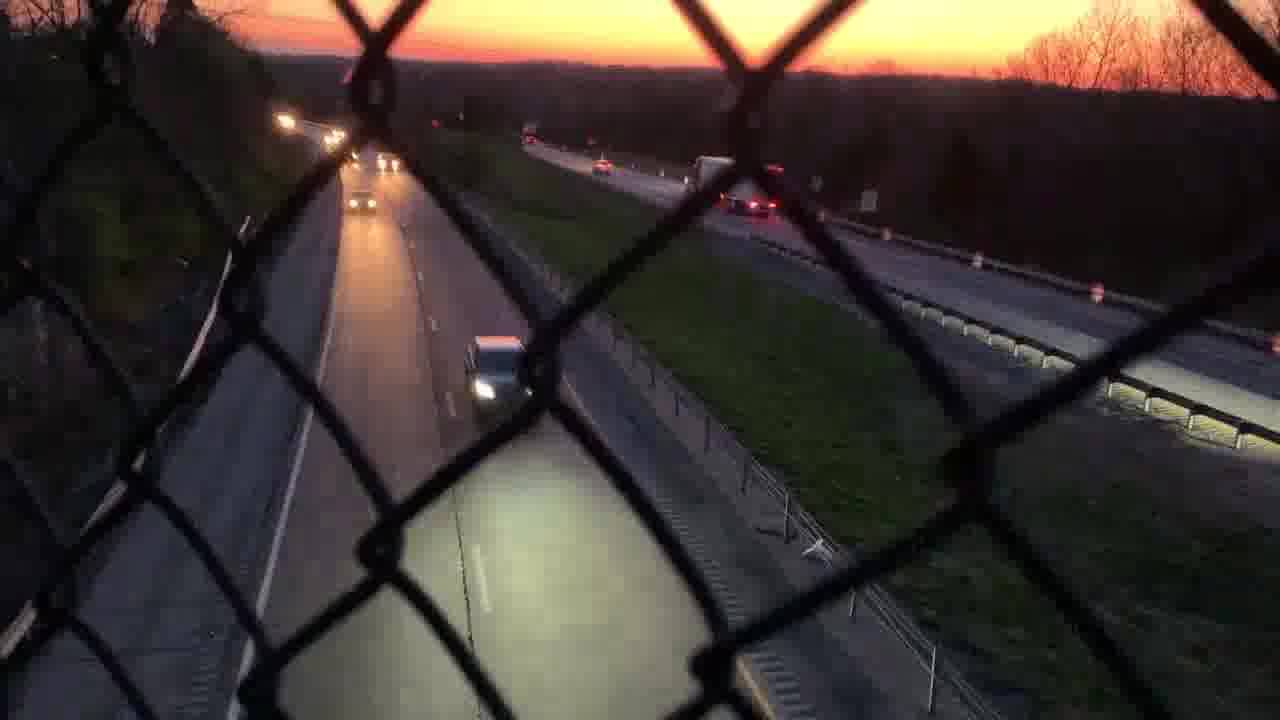heavyTruck: (684, 153, 786, 214)
largeCar: (463, 337, 542, 432)
smallCar: (346, 189, 379, 218)
